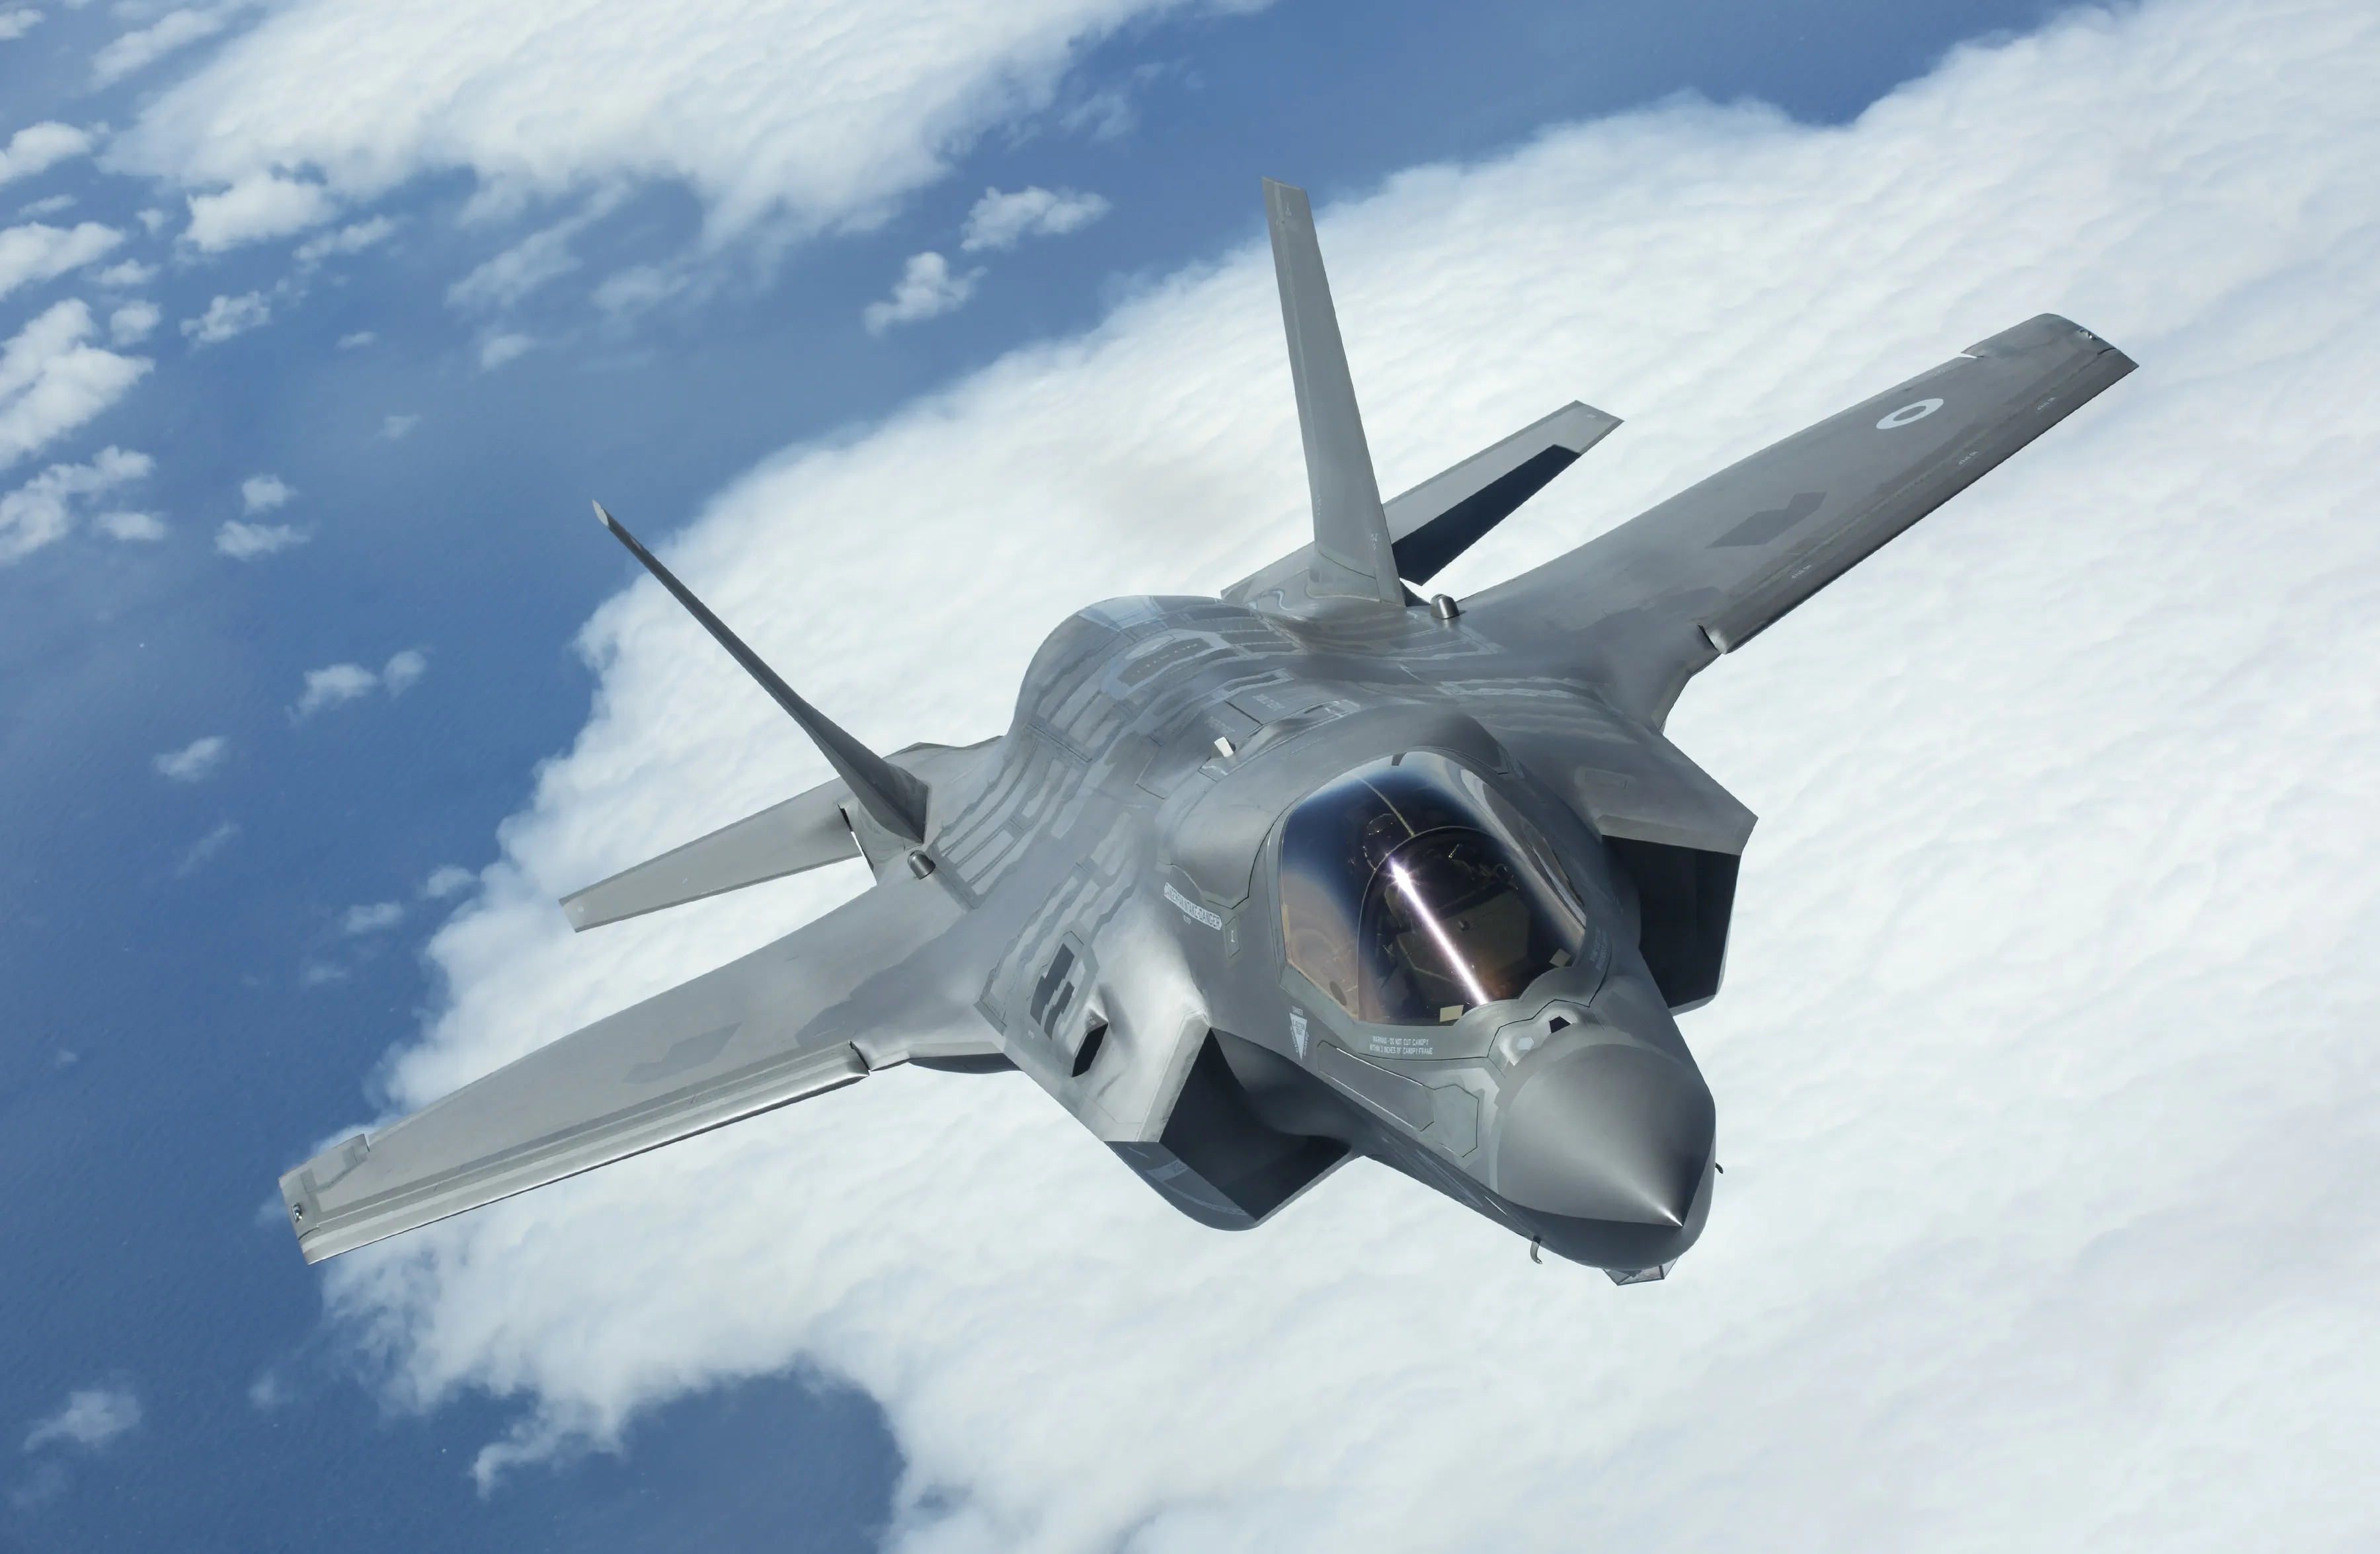F-35 Lightning: (255, 153, 2154, 1360)
